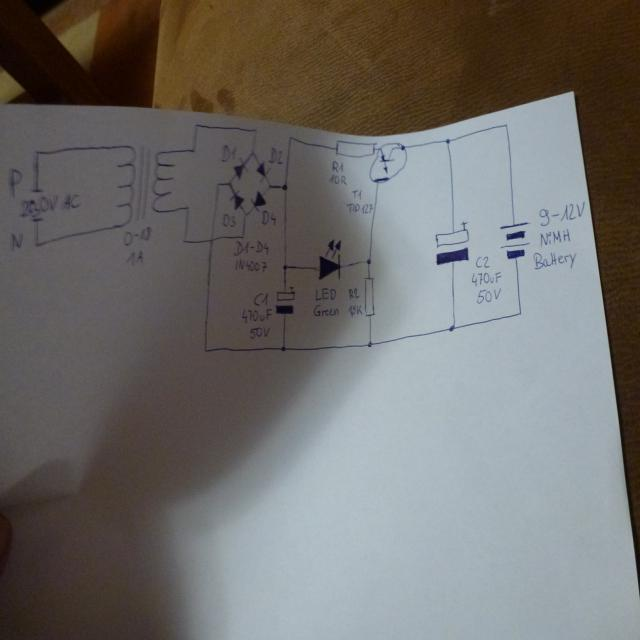capacitor: (434, 222, 471, 266), (274, 284, 296, 315)
crossover: (208, 235, 214, 244)
diode: (316, 238, 343, 282), (228, 184, 246, 212), (232, 156, 250, 180), (250, 190, 266, 213), (254, 159, 270, 182)
junction: (248, 147, 258, 159), (33, 238, 42, 249), (448, 320, 456, 332), (280, 262, 289, 272), (364, 256, 372, 266), (32, 147, 40, 157), (444, 136, 452, 146), (280, 182, 288, 191), (366, 338, 373, 348), (226, 178, 233, 188), (266, 181, 272, 192), (242, 210, 249, 218), (280, 343, 286, 352), (238, 232, 245, 239), (503, 121, 509, 129), (202, 346, 208, 354), (287, 134, 293, 142), (184, 204, 190, 212), (516, 309, 522, 316), (252, 126, 258, 133), (191, 146, 196, 154), (181, 236, 186, 243), (215, 181, 219, 188), (194, 123, 198, 129)
resistor: (334, 138, 378, 159), (362, 276, 375, 318)
source: (498, 219, 531, 260)
terminal: (28, 186, 44, 194), (30, 216, 45, 224)
text: (538, 200, 586, 227), (29, 192, 83, 214), (532, 249, 576, 270), (236, 237, 268, 258), (538, 227, 572, 246), (232, 254, 266, 273), (7, 165, 26, 199), (468, 268, 501, 286), (474, 284, 502, 304), (240, 307, 272, 324), (126, 224, 152, 244), (314, 284, 337, 303), (312, 304, 341, 318), (124, 247, 144, 267), (347, 200, 373, 214), (8, 230, 24, 251), (219, 144, 238, 160), (249, 326, 270, 340), (259, 209, 276, 226), (268, 145, 283, 164), (220, 212, 236, 229), (252, 290, 269, 306), (328, 174, 348, 186), (474, 253, 490, 268), (346, 303, 362, 317), (331, 158, 344, 174), (347, 286, 359, 300), (350, 188, 363, 200)
transformer: (112, 143, 175, 229)
transistor: (368, 140, 407, 186)
